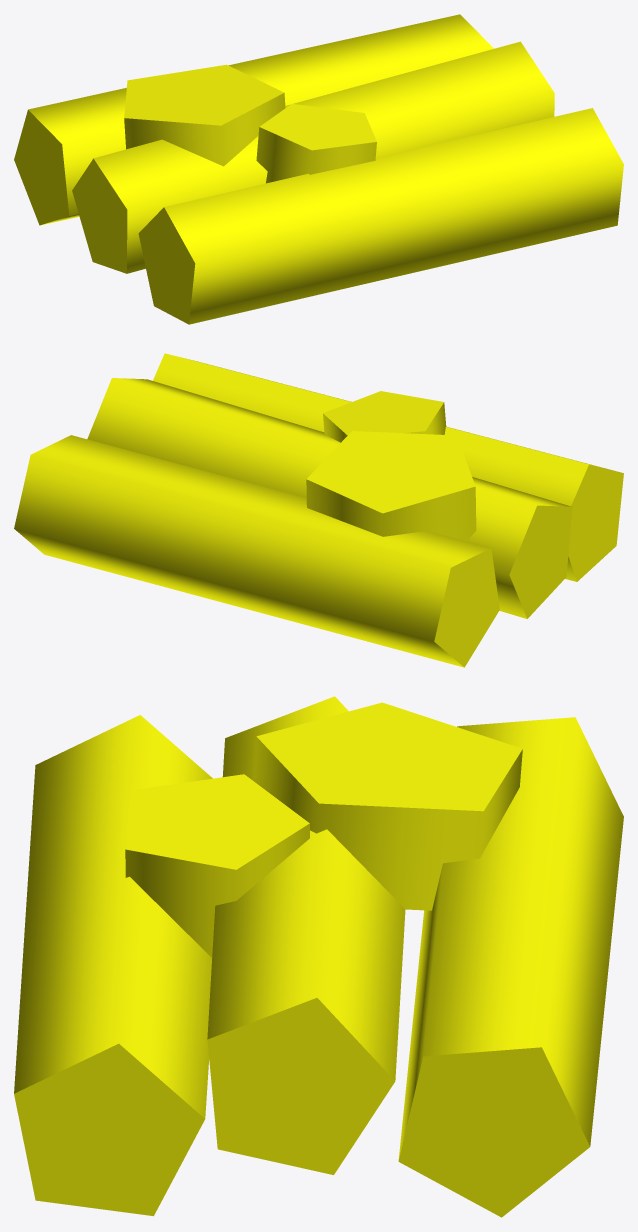
Rendered from item_tnt.glb.
3 renders of one model, top to bottom at view 1: azimuth 30°, elevation 25°; view 2: azimuth 150°, elevation 25°; view 3: azimuth 270°, elevation 25°, orthographic. The views are drawn at different scales.
Parts seen in each view (by area): view 1: item_tnt; view 2: item_tnt; view 3: item_tnt.
Part boxes in pixels (x1,y1,x2,y2): item_tnt: [14, 14, 623, 324]; item_tnt: [14, 353, 623, 667]; item_tnt: [14, 696, 623, 1217].
Bounding box in the file's own units: 0.7101 × 0.2198 × 0.5392.
1 material, 1 textured.
